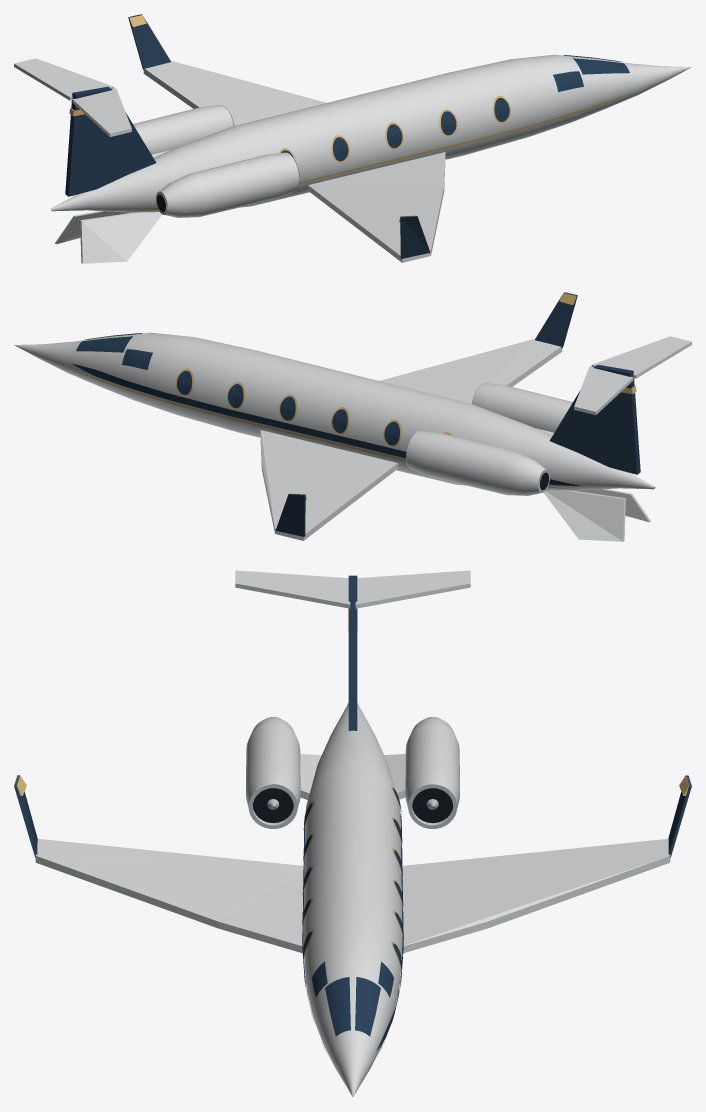
Rendered from Learjet60-approximate.glb.
3 views of the same model, one above another, from view 1: azimuth 30°, elevation 25°; view 2: azimuth 150°, elevation 25°; view 3: azimuth 270°, elevation 25° (orthographic). The views are drawn at different scales.
Visible parts, largest first — view 1: Learjet 60 approximate; view 2: Learjet 60 approximate; view 3: Learjet 60 approximate.
Boxes of the visible parts, left/top/right/bottom form: Learjet 60 approximate: left=14, top=14, right=691, bottom=263; Learjet 60 approximate: left=14, top=292, right=691, bottom=541; Learjet 60 approximate: left=14, top=570, right=691, bottom=1096.
Bounding box in the file's own units: 17.88 × 4.32 × 13.35.
